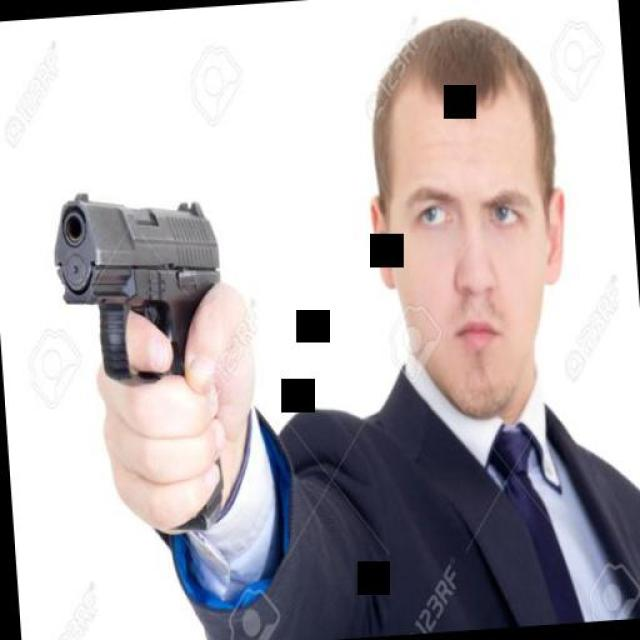gun: (44, 178, 228, 394)
